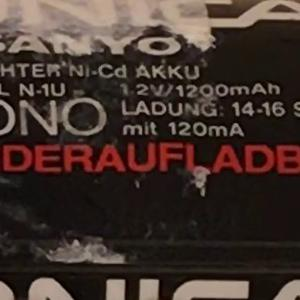NI-CD: (53, 56, 136, 80)
